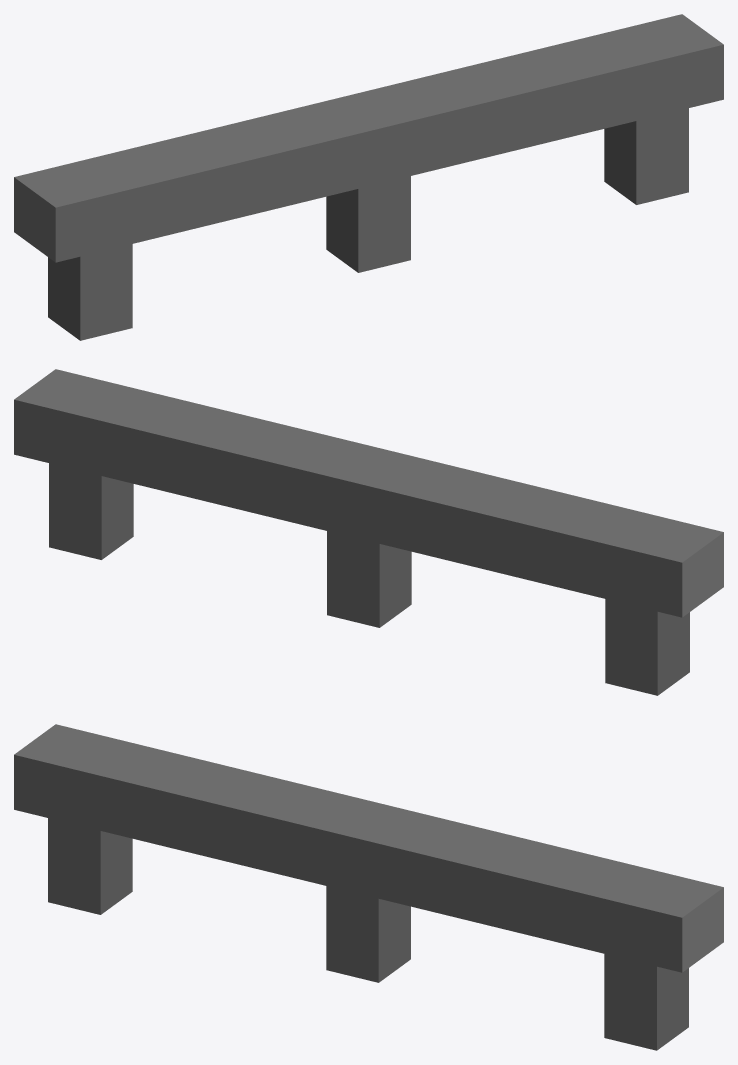
File: fence_type_01.fbx
3 views of the same model, one above another, from view 1: azimuth 30°, elevation 25°; view 2: azimuth 150°, elevation 25°; view 3: azimuth 330°, elevation 25° (orthographic).
Parts seen in each view (by area): view 1: fence_type_01; view 2: fence_type_01; view 3: fence_type_01.
Boxes of the visible parts, <box> form: fence_type_01: <box>14,14,723,340</box>; fence_type_01: <box>14,369,723,695</box>; fence_type_01: <box>14,724,723,1050</box>.
Bounding box in the file's own units: 240 × 49.45 × 26.
